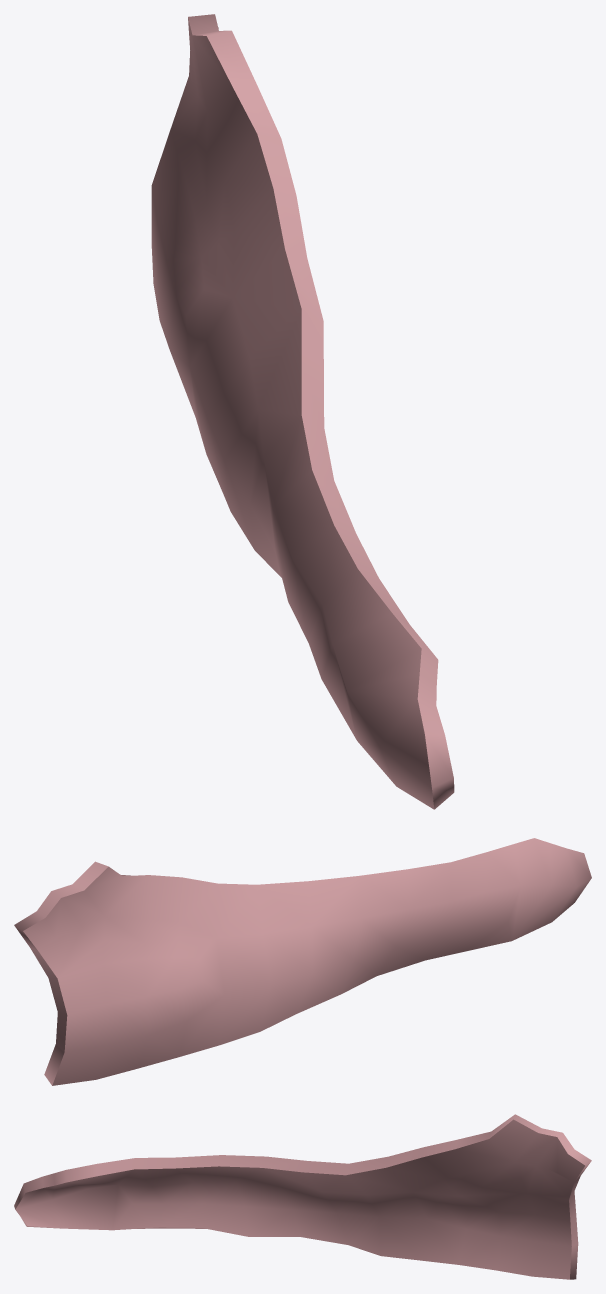
3 views of the same model, one above another, from view 1: azimuth 30°, elevation 25°; view 2: azimuth 150°, elevation 25°; view 3: azimuth 270°, elevation 25° (orthographic). The views are drawn at different scales.
Visible parts, largest first — view 1: ZA_bd95383728b7c5ed; view 2: ZA_bd95383728b7c5ed; view 3: ZA_bd95383728b7c5ed.
Part boxes in pixels (box(x1,y1,x2,y2)): ZA_bd95383728b7c5ed: box(151, 14, 454, 809); ZA_bd95383728b7c5ed: box(14, 838, 591, 1085); ZA_bd95383728b7c5ed: box(14, 1114, 591, 1279).
Bounding box in the file's own units: 0.0471 × 0.0432 × 0.1267.
